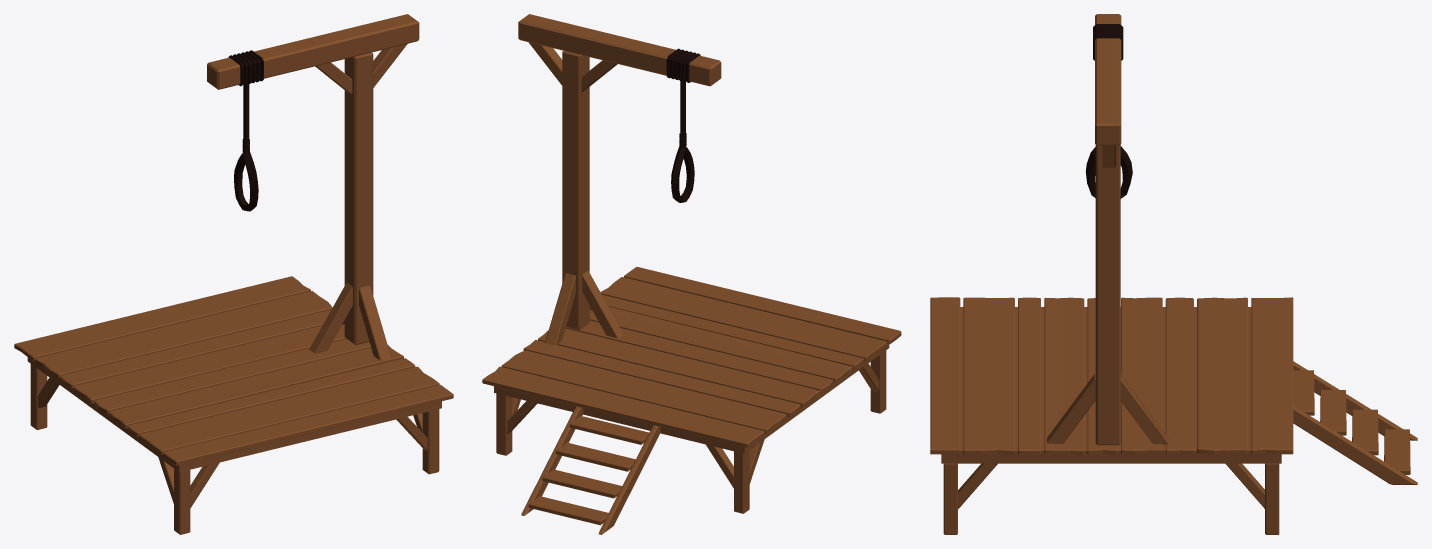
File: ww_gallows.glb
The picture shows the model from 3 angles, left to right: view 1: azimuth 30°, elevation 25°; view 2: azimuth 150°, elevation 25°; view 3: azimuth 270°, elevation 25°; orthographic projection. The views are drawn at different scales.
Parts seen in each view (by area): view 1: Gallows; view 2: Gallows; view 3: Gallows.
Boxes of the visible parts, bbox=[...] form: Gallows: bbox=[14, 14, 453, 534]; Gallows: bbox=[482, 14, 901, 534]; Gallows: bbox=[930, 14, 1417, 534].
Size of the model in its own units: 3.49 by 4.11 by 4.13.
